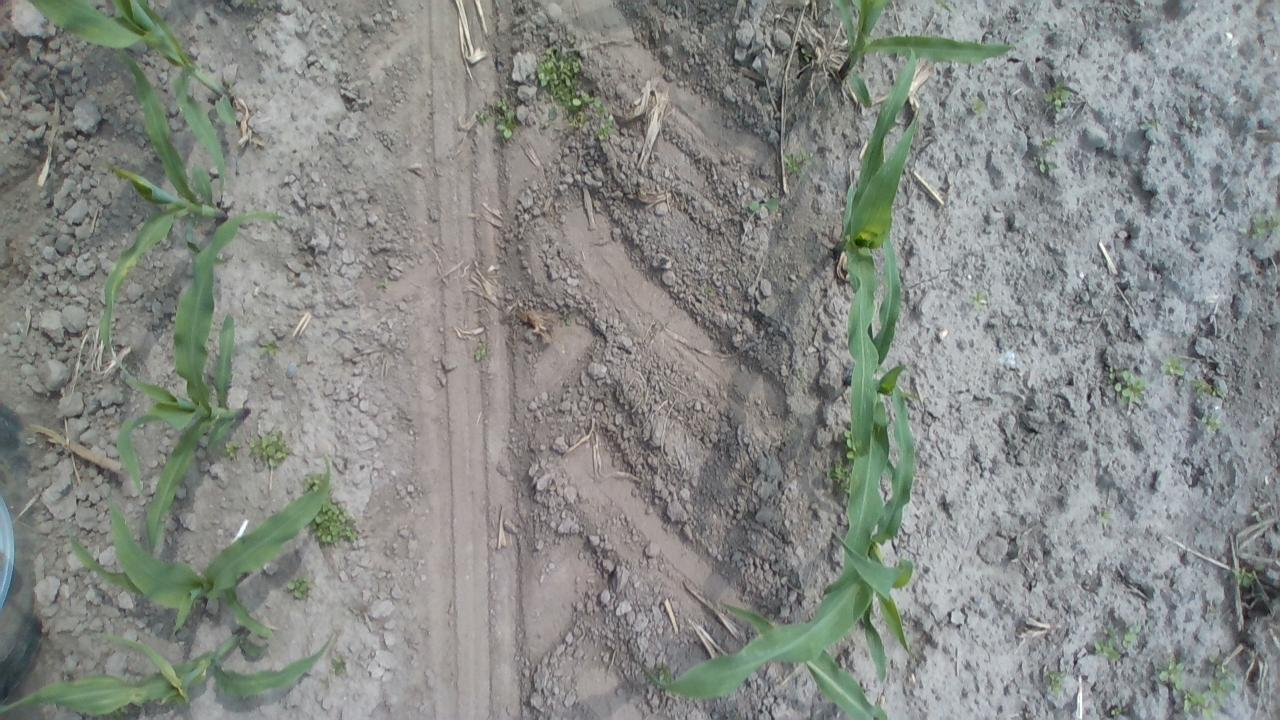Maize: (644, 378, 934, 708), (100, 205, 296, 553), (81, 54, 237, 406), (67, 456, 338, 636), (830, 47, 939, 462), (21, 0, 250, 195), (833, 226, 930, 588), (0, 623, 356, 720), (722, 596, 942, 720), (820, 0, 1050, 103)
Weeds: (534, 44, 599, 108), (317, 496, 365, 552), (474, 92, 524, 144), (563, 94, 613, 141), (246, 428, 297, 474), (1104, 360, 1146, 408), (1206, 652, 1240, 705), (1178, 690, 1225, 720), (1241, 207, 1280, 239), (1046, 78, 1076, 117), (827, 458, 861, 492), (300, 466, 332, 501), (1094, 626, 1125, 662), (252, 330, 280, 366), (781, 149, 808, 185), (1154, 659, 1187, 688), (286, 572, 317, 602), (1192, 377, 1228, 402), (1160, 352, 1190, 380), (216, 435, 244, 464), (1047, 668, 1073, 698), (1133, 110, 1166, 133), (652, 666, 676, 696), (471, 338, 498, 364), (749, 195, 782, 216), (963, 286, 991, 310), (1120, 624, 1144, 651), (1230, 565, 1258, 588), (968, 86, 988, 117), (1196, 412, 1224, 434), (1091, 503, 1115, 528), (326, 651, 348, 678), (840, 424, 856, 460), (1036, 154, 1062, 176), (367, 272, 394, 292), (1105, 700, 1130, 719), (1040, 132, 1062, 150), (798, 42, 818, 61)
